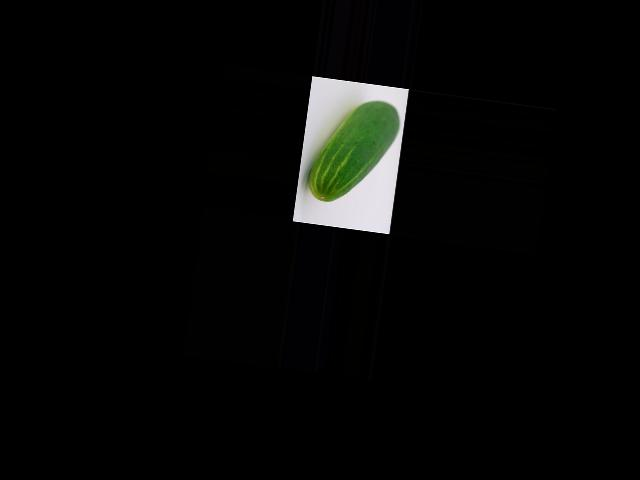cucumber: (306, 92, 402, 209)
